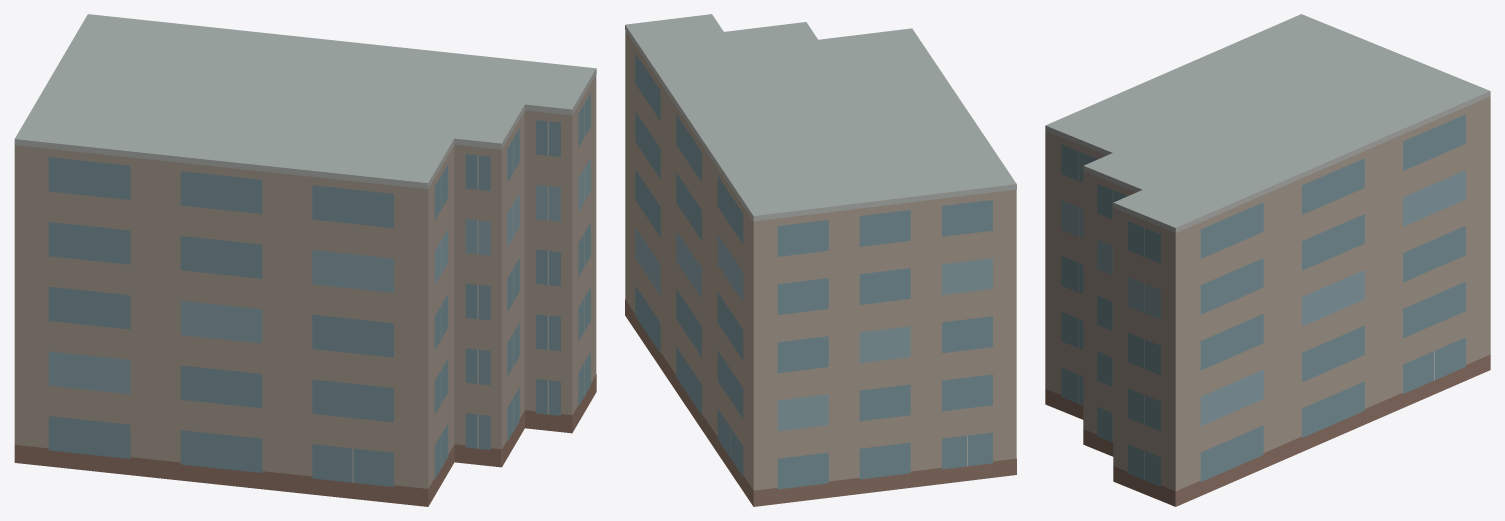
The model's file is survey-upis-32664612.glb.
3 views of the same model, side by side, from view 1: azimuth 30°, elevation 25°; view 2: azimuth 150°, elevation 25°; view 3: azimuth 270°, elevation 25° (orthographic). The views are drawn at different scales.
Parts seen in each view (by area): view 1: survey-upis-32664612.tmp; view 2: survey-upis-32664612.tmp; view 3: survey-upis-32664612.tmp.
Part boxes in pixels (<box>): survey-upis-32664612.tmp: <box>14,14,596,506</box>; survey-upis-32664612.tmp: <box>625,14,1016,506</box>; survey-upis-32664612.tmp: <box>1045,14,1490,506</box>.
Size of the model in its own units: 21.65 by 13.15 by 19.04.
